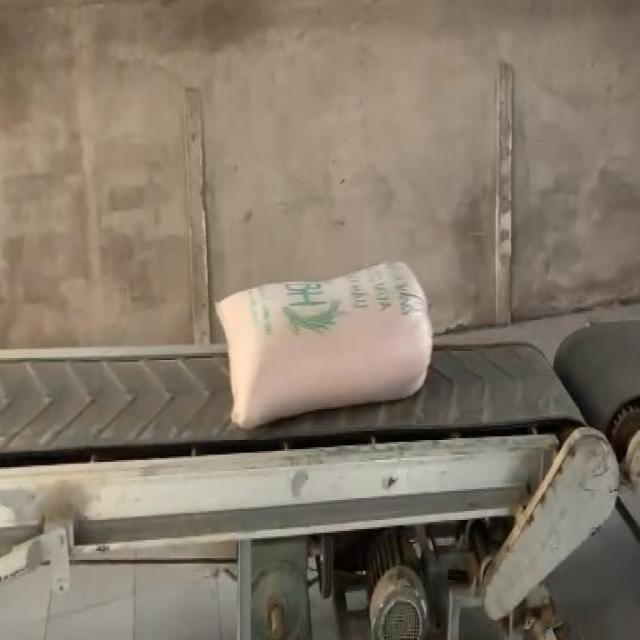gunny_bag: (217, 262, 433, 428)
